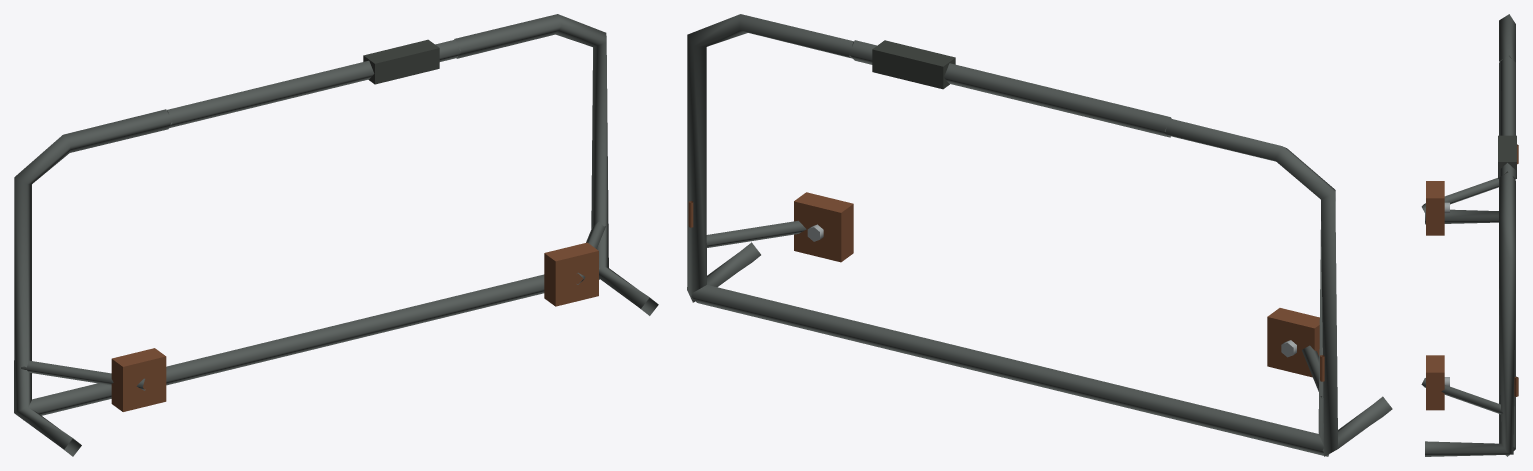
Rendered from zastava_101_upgrade_bullbar.glb.
The picture shows the model from 3 angles, left to right: view 1: azimuth 30°, elevation 25°; view 2: azimuth 150°, elevation 25°; view 3: azimuth 270°, elevation 25°; orthographic projection. The views are drawn at different scales.
Visible parts, largest first — view 1: zastava_101_upgrade_bullbar; view 2: zastava_101_upgrade_bullbar; view 3: zastava_101_upgrade_bullbar.
Boxes of the visible parts, bbox=[...] form: zastava_101_upgrade_bullbar: bbox=[14, 14, 658, 456]; zastava_101_upgrade_bullbar: bbox=[687, 14, 1392, 456]; zastava_101_upgrade_bullbar: bbox=[1421, 14, 1518, 456].
Size of the model in its own units: 1.65 by 0.7325 by 0.2822.
